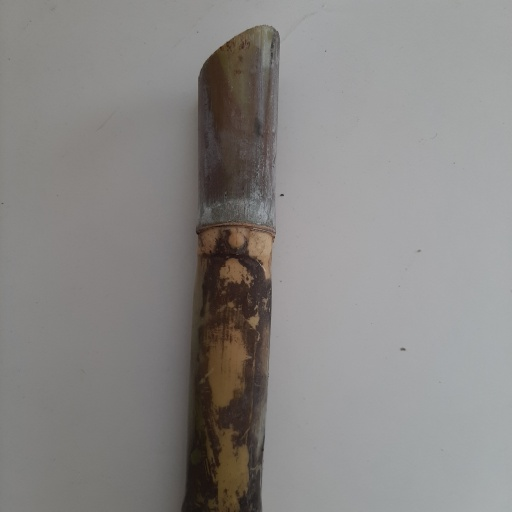Bud: (222, 228, 249, 254)
